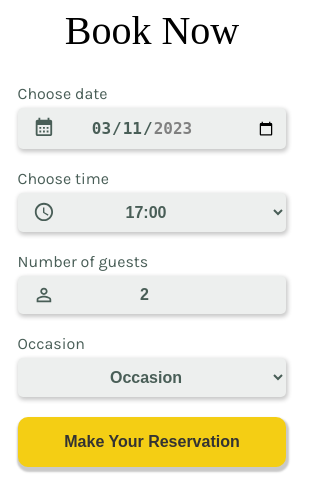
Test: Validate that the correct attributes are applied › Occasion validation function: put invalid input 'Invalid occasion'
This screenshot has width=320, height=490.
Step 1. Select "Invalid occasion" in the dropdown labelled "Occasion" → {"x": 152, "y": 378}, box [18,358,286,397]
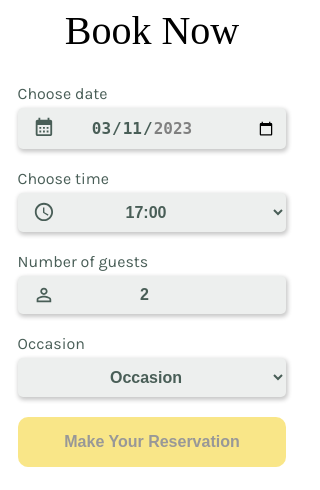
expect the button is disabled: met, box [18,417,286,467]
